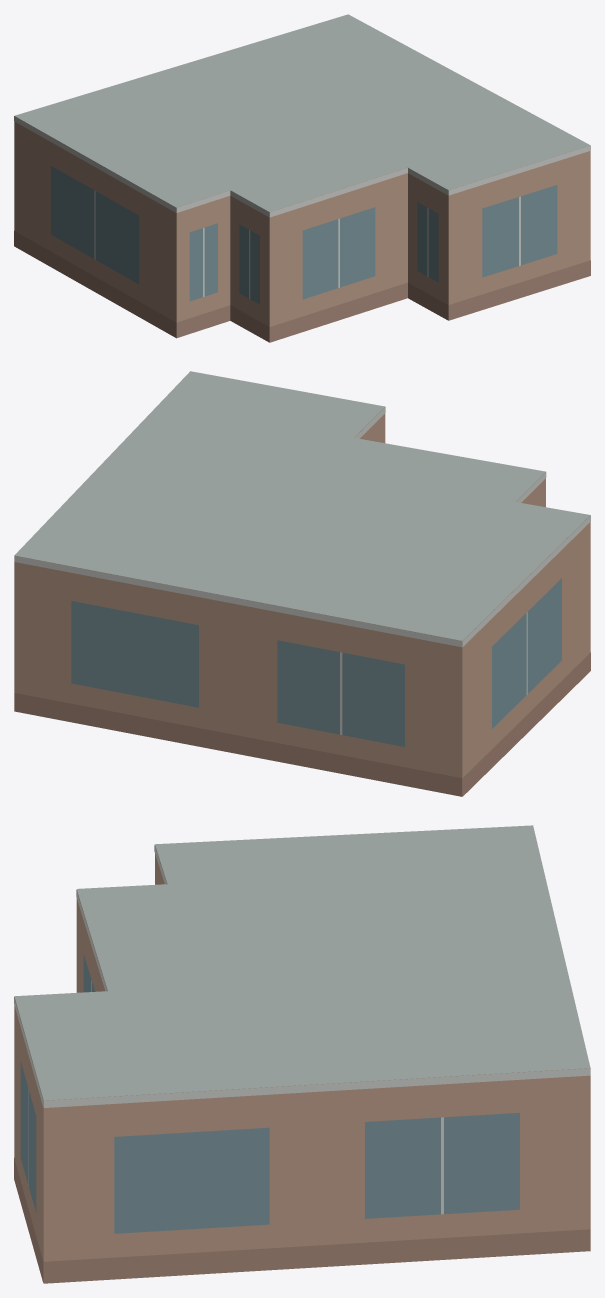
File: survey-upis-32816361.glb
3 views of the same model, one above another, from view 1: azimuth 30°, elevation 25°; view 2: azimuth 150°, elevation 25°; view 3: azimuth 270°, elevation 25° (orthographic). The views are drawn at different scales.
Parts seen in each view (by area): view 1: survey-upis-32816361.tmp; view 2: survey-upis-32816361.tmp; view 3: survey-upis-32816361.tmp.
Boxes of the visible parts, x1=… form: survey-upis-32816361.tmp: x1=14, y1=14, x2=590, y2=342; survey-upis-32816361.tmp: x1=14, y1=371, x2=590, y2=796; survey-upis-32816361.tmp: x1=14, y1=825, x2=590, y2=1283.
Bounding box in the file's own units: 9.85 × 3.05 × 8.72.
